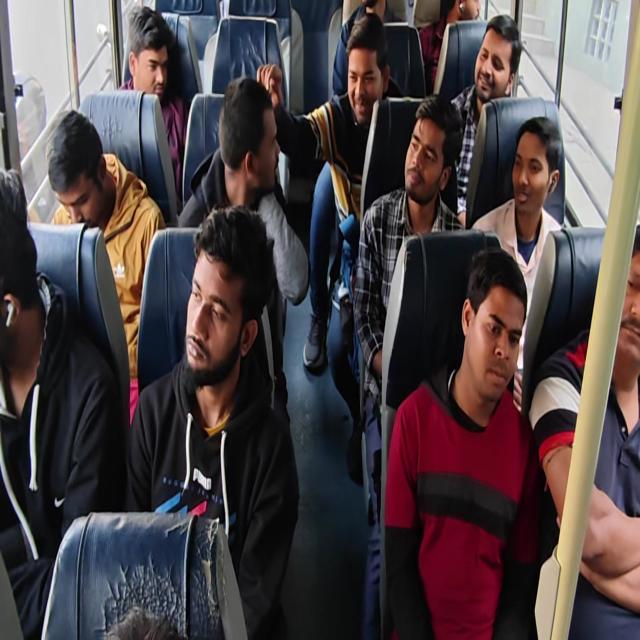person: (181, 226, 244, 381), (465, 265, 528, 416), (52, 113, 110, 229), (224, 82, 281, 198), (0, 173, 33, 372), (506, 113, 561, 218), (604, 227, 640, 381), (406, 106, 448, 203), (126, 12, 169, 101), (472, 23, 515, 110), (347, 46, 382, 130), (431, 0, 489, 31), (348, 0, 385, 18)
